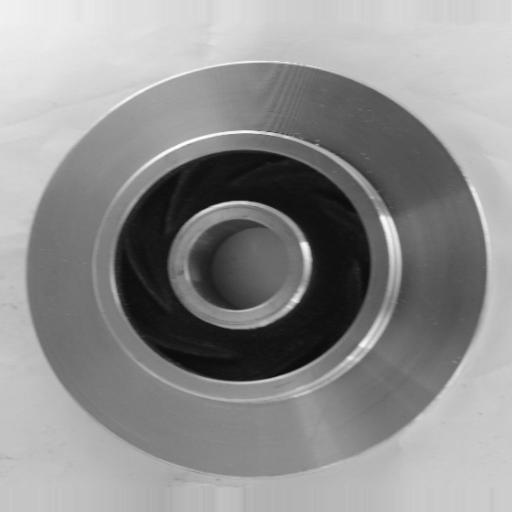polished_casting: (24, 61, 489, 480)
